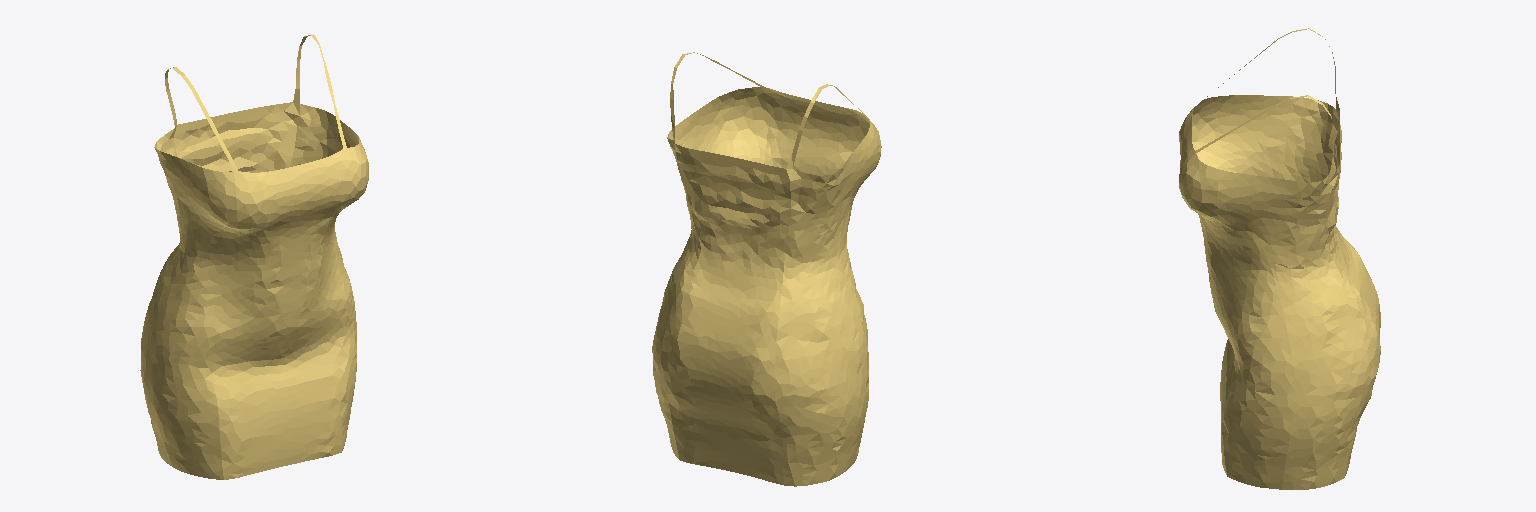
3 renders of one model, left to right at view 1: azimuth 30°, elevation 25°; view 2: azimuth 150°, elevation 25°; view 3: azimuth 270°, elevation 25°, orthographic.
Parts seen in each view (by area): view 1: large_beigeBodycon:polySurface1; view 2: large_beigeBodycon:polySurface1; view 3: large_beigeBodycon:polySurface1.
Boxes of the visible parts, <box> form: large_beigeBodycon:polySurface1: <box>140,34,368,479</box>; large_beigeBodycon:polySurface1: <box>652,52,881,486</box>; large_beigeBodycon:polySurface1: <box>1179,28,1380,489</box>.
Size of the model in its own units: 3.83 by 7.32 by 3.43.
10 materials, 1 textured.